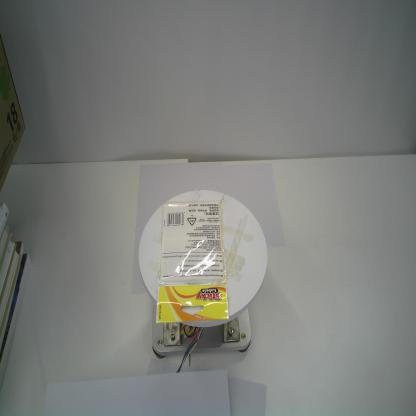Stationery: (156, 200, 229, 324)
